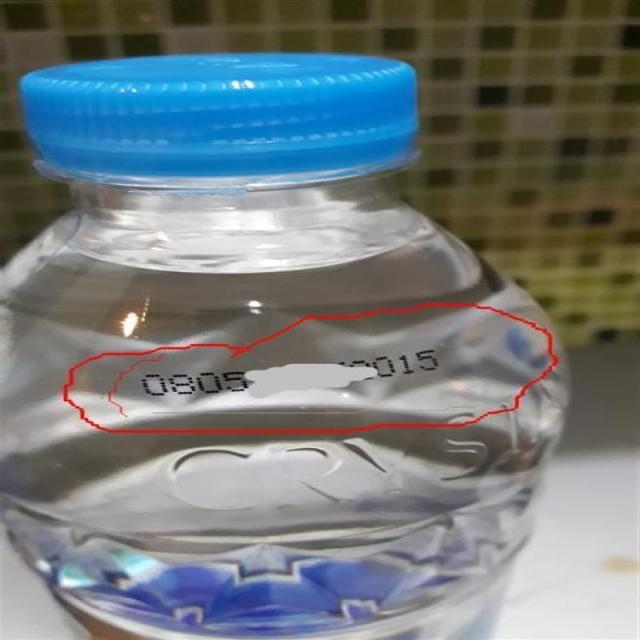bottle: (0, 23, 596, 640)
